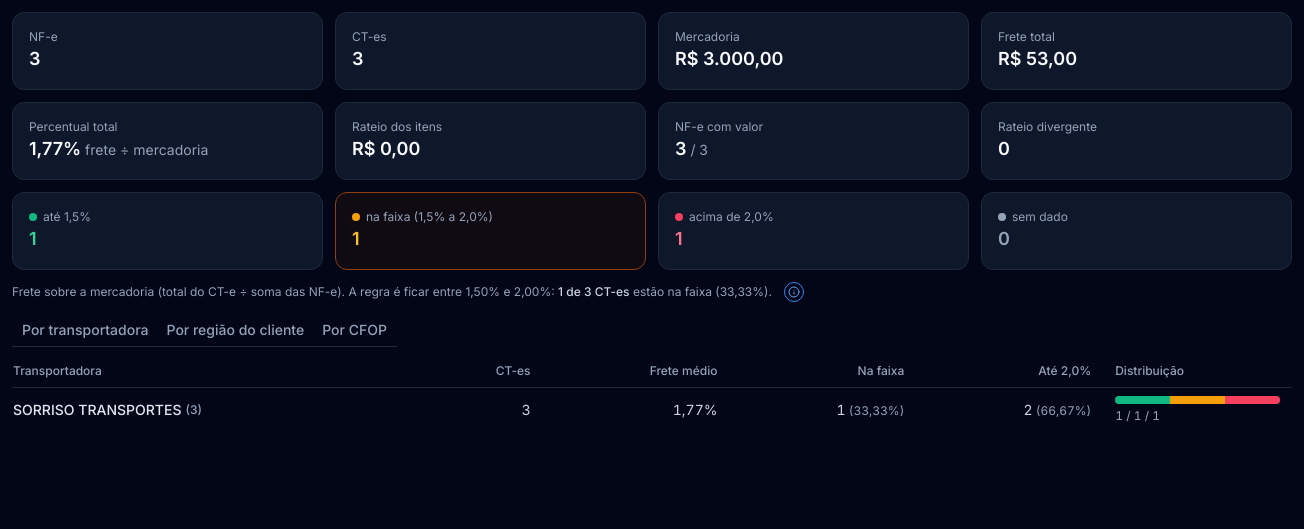
Test case: Dashboard › troca para o breakdown por região do cliente
The width and height of the screenshot is (1304, 529).
Click the tab "Por região do cliente".
click(235, 330)  # box [160, 317, 311, 343]
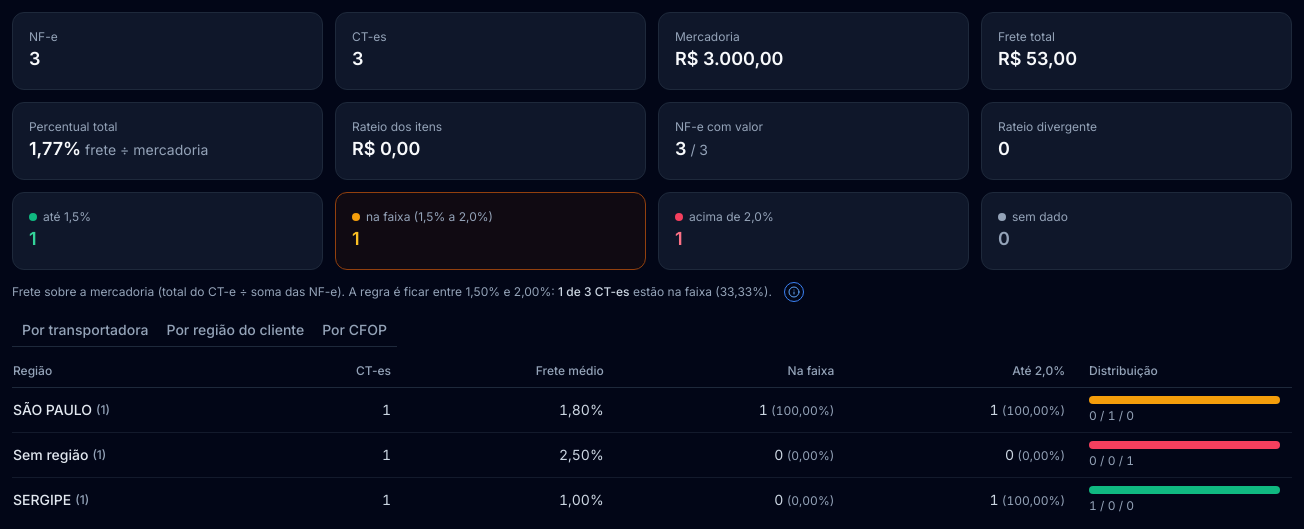
expect the text "SÃO PAULO" shows "1,80%": met, box [559, 401, 604, 418]
expect the text "SÃO PAULO" shows "0 / 1 / 0": met, box [12, 388, 1292, 432]
expect the button "Sem região (1)" is shown: met, box [13, 445, 254, 465]
